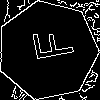F: (23, 25, 75, 65)
